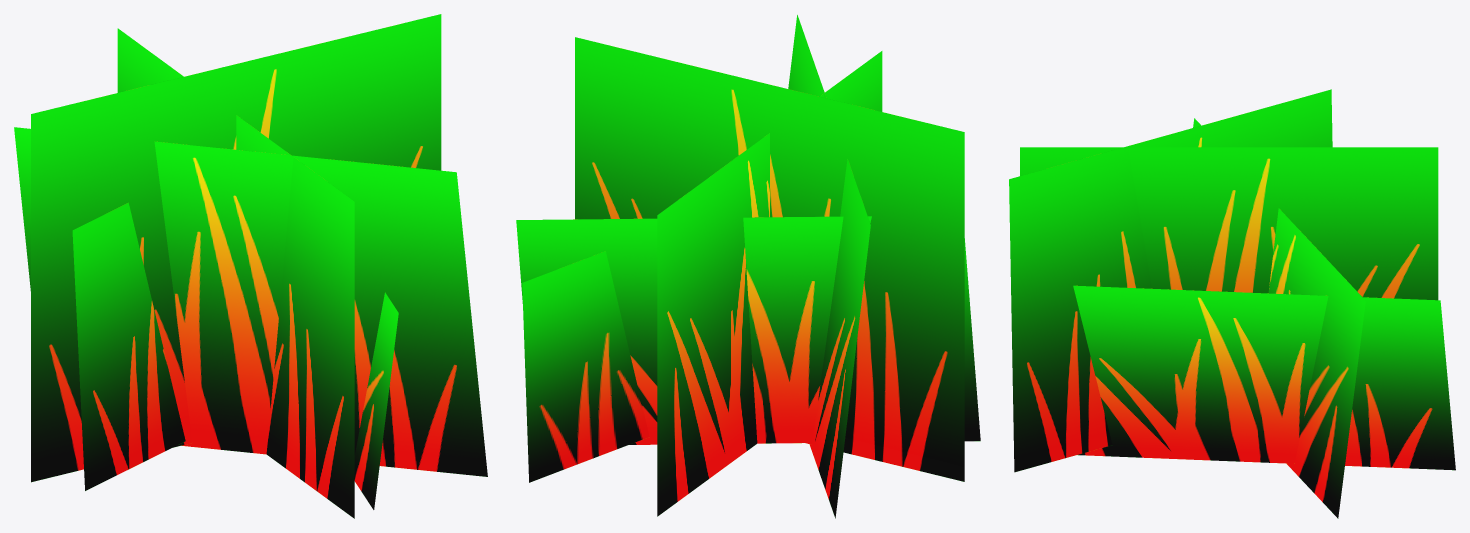
Rendered from GrassMesh.fbx.
3 renders of one model, left to right at view 1: azimuth 30°, elevation 25°; view 2: azimuth 150°, elevation 25°; view 3: azimuth 270°, elevation 25°, orthographic. The views are drawn at different scales.
Parts seen in each view (by area): view 1: GrassMesh_LOD0; view 2: GrassMesh_LOD0; view 3: GrassMesh_LOD0.
Boxes of the visible parts, left/top/right/bottom form: GrassMesh_LOD0: left=14, top=14, right=487, bottom=518; GrassMesh_LOD0: left=516, top=15, right=980, bottom=518; GrassMesh_LOD0: left=1009, top=89, right=1455, bottom=518.
Size of what is drawn, in the model's own units: 200 by 177 by 214.
